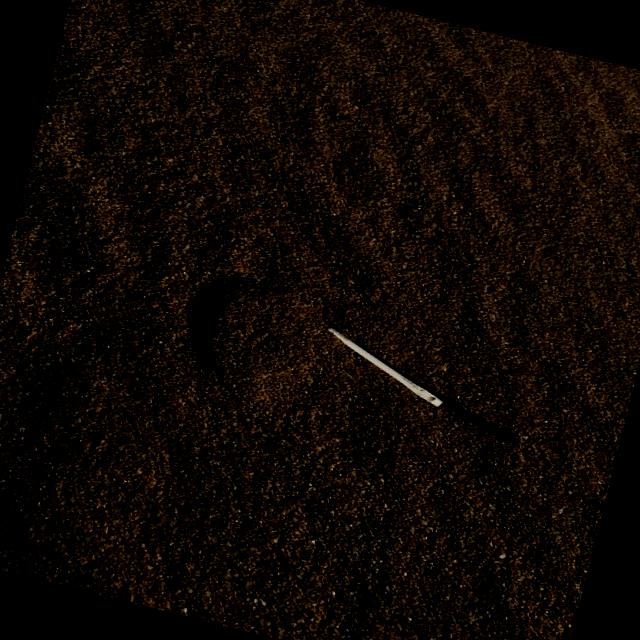Trash: (308, 324, 461, 415)
